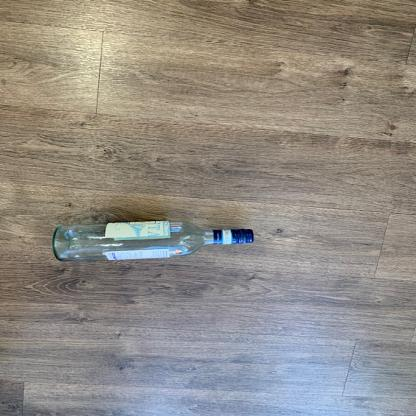trash: (48, 220, 258, 263)
